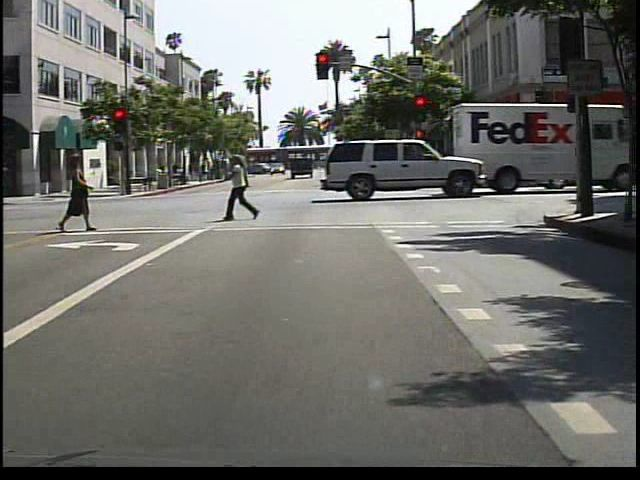person: (60, 147, 104, 233), (224, 151, 261, 222), (2, 152, 18, 235), (171, 159, 185, 185)
